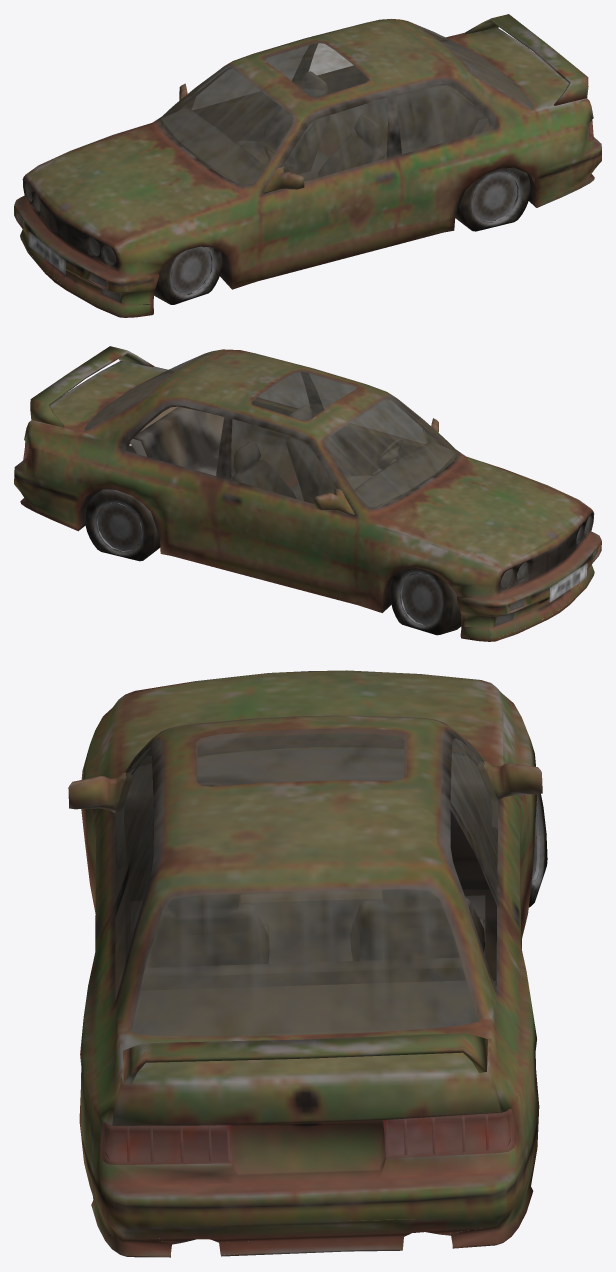
Rendered from car_bmw.glb.
3 renders of one model, top to bottom at view 1: azimuth 30°, elevation 25°; view 2: azimuth 150°, elevation 25°; view 3: azimuth 270°, elevation 25°, orthographic. The views are drawn at different scales.
Parts seen in each view (by area): view 1: Object_3, Object_2; view 2: Object_3, Object_2; view 3: Object_3, Object_2.
Part boxes in pixels (left/top/right/bottom): Object_3: left=14, top=19, right=601, bottom=316; Object_2: left=14, top=14, right=601, bottom=317; Object_3: left=14, top=349, right=600, bottom=641; Object_2: left=14, top=346, right=601, bottom=641; Object_3: left=68, top=670, right=542, bottom=1256; Object_2: left=69, top=728, right=547, bottom=1257.
Size of the model in its own units: 4.4 by 1.32 by 1.79.
1 material, 1 textured.
